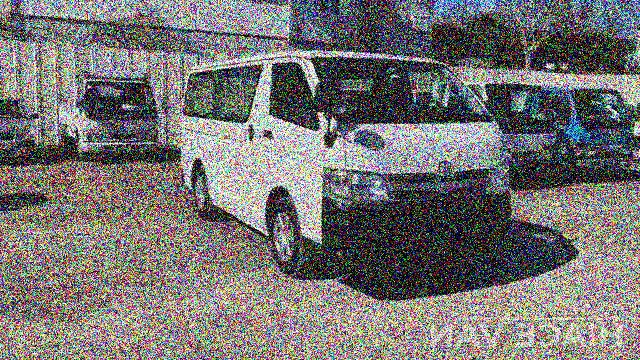van: (178, 51, 509, 281)
